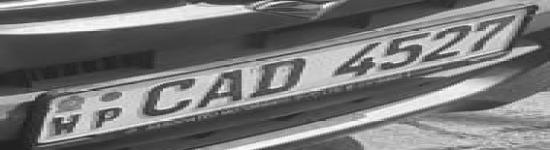2: (424, 24, 476, 63)
4: (330, 40, 382, 77)
5: (380, 32, 432, 72)
7: (473, 14, 517, 53)
A: (194, 68, 250, 108)
C: (141, 77, 194, 118)
D: (246, 58, 307, 99)
P: (91, 106, 130, 130)
W: (48, 113, 84, 134)
